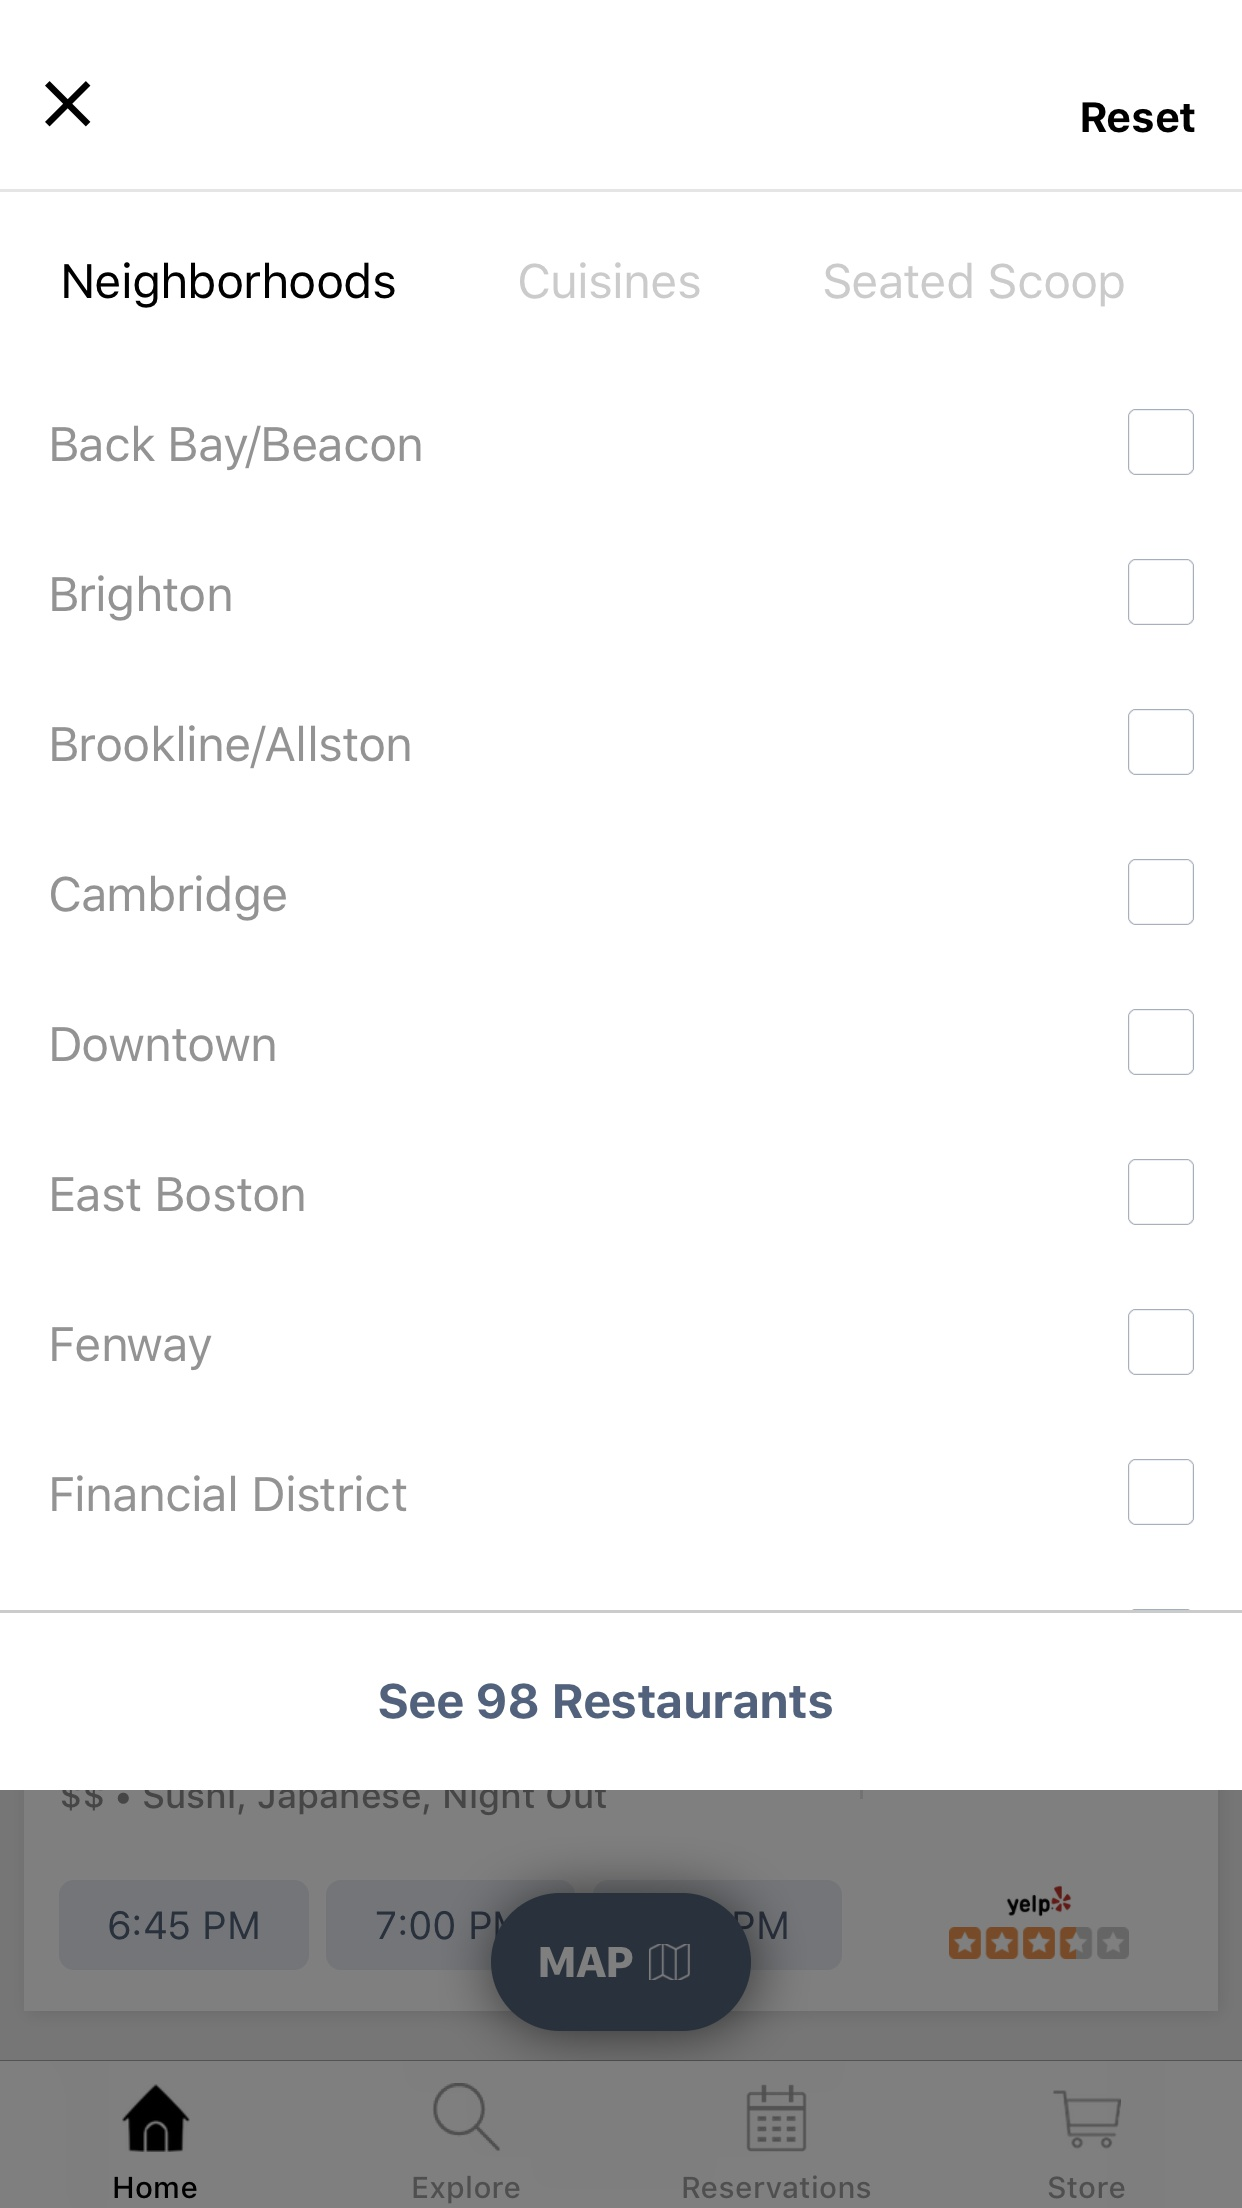CheckedTextView: (52, 408, 1195, 476), (52, 858, 1195, 927), (52, 1008, 1195, 1077), (53, 558, 1195, 626), (52, 710, 1195, 776), (52, 1159, 1195, 1225), (52, 1309, 1195, 1375), (52, 1459, 1195, 1526)
Icon: (45, 80, 93, 127)
Text: (52, 425, 422, 472), (52, 725, 411, 770), (379, 1685, 833, 1720), (64, 262, 396, 309), (825, 262, 1125, 308), (52, 1476, 408, 1513), (52, 873, 287, 922), (52, 1175, 305, 1213), (53, 575, 234, 622), (52, 1027, 276, 1063), (52, 1325, 212, 1371), (519, 262, 701, 300), (1081, 102, 1197, 133)
